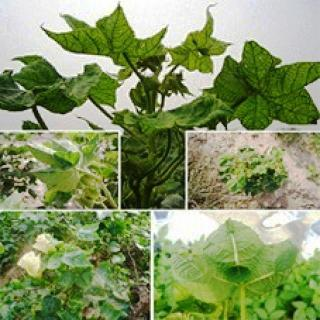curl: (171, 224, 293, 306), (220, 43, 306, 121), (3, 58, 97, 104), (29, 143, 91, 203), (78, 16, 152, 58)
